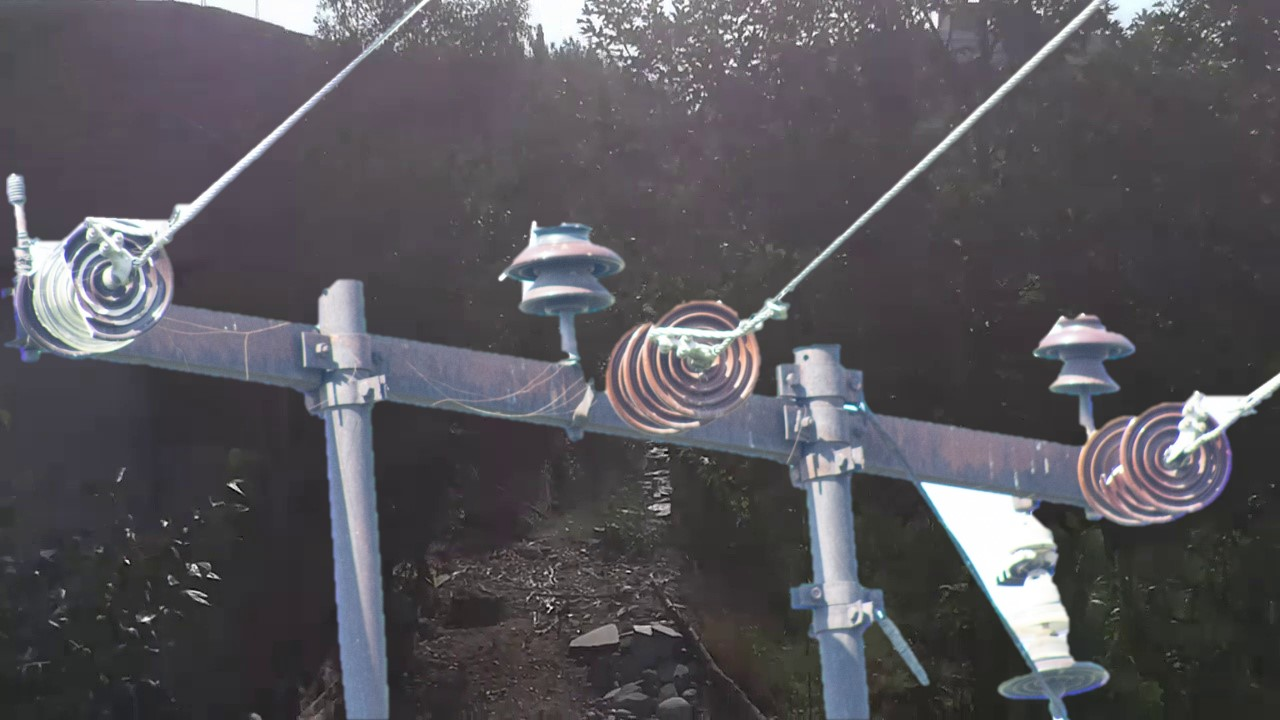defect_disc: (61, 211, 179, 345)
insulator_disc: (642, 293, 765, 424), (1118, 392, 1236, 519)
